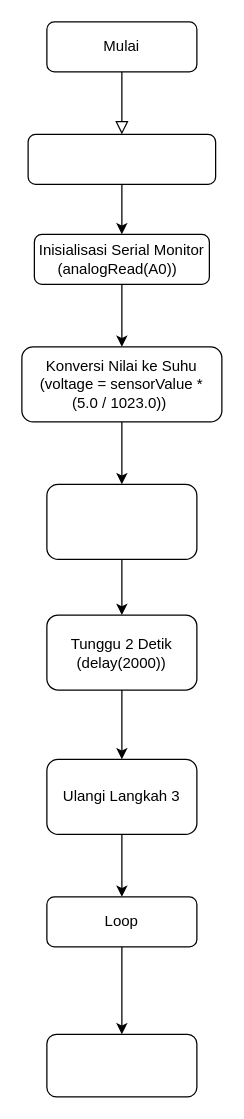
Image size: 244x1119. Some labels were removed from this diagram. Each missing label, with the centre of its shape:
"Inisialisasi Serial Monitor" goes at [121,158].
"Program Berakhir" goes at [121,1065].
"Tampilkan Hasil Suhu (Serial. print ())" goes at [121,521].
